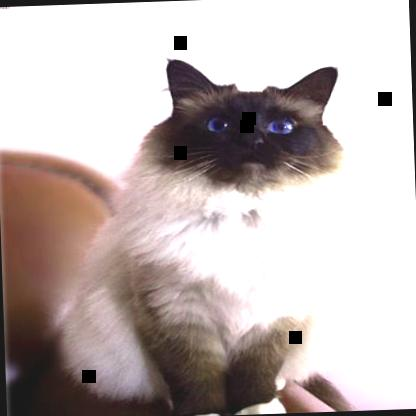cat: (47, 53, 354, 415)
